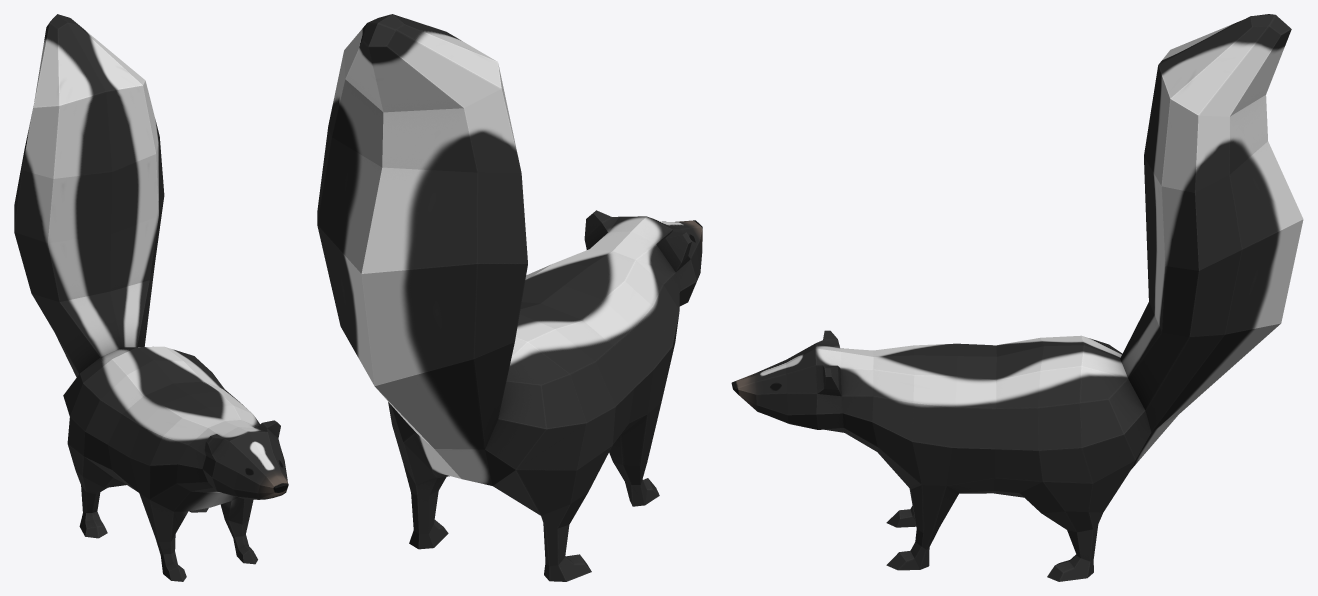
Rendered from acd9630a-6674-4921-beec-2eac2827f1b0.glb.
3 views of the same model, side by side, from view 1: azimuth 30°, elevation 25°; view 2: azimuth 150°, elevation 25°; view 3: azimuth 270°, elevation 25° (orthographic). The views are drawn at different scales.
Parts seen in each view (by area): view 1: Skunk_mesh; view 2: Skunk_mesh; view 3: Skunk_mesh.
Part boxes in pixels (x1,y1,x2,y2): Skunk_mesh: [14, 14, 288, 581]; Skunk_mesh: [317, 14, 702, 581]; Skunk_mesh: [731, 14, 1303, 581].
Bounding box in the file's own units: 2.4 × 6.73 × 6.58.
1 material, 1 textured.
